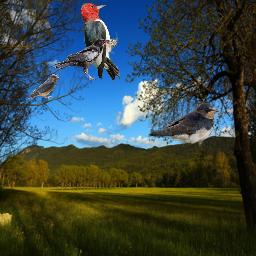Crow: (53, 37, 117, 80)
Swallow: (148, 102, 219, 147), (27, 74, 59, 100)
Woodpecker: (81, 2, 121, 81)
